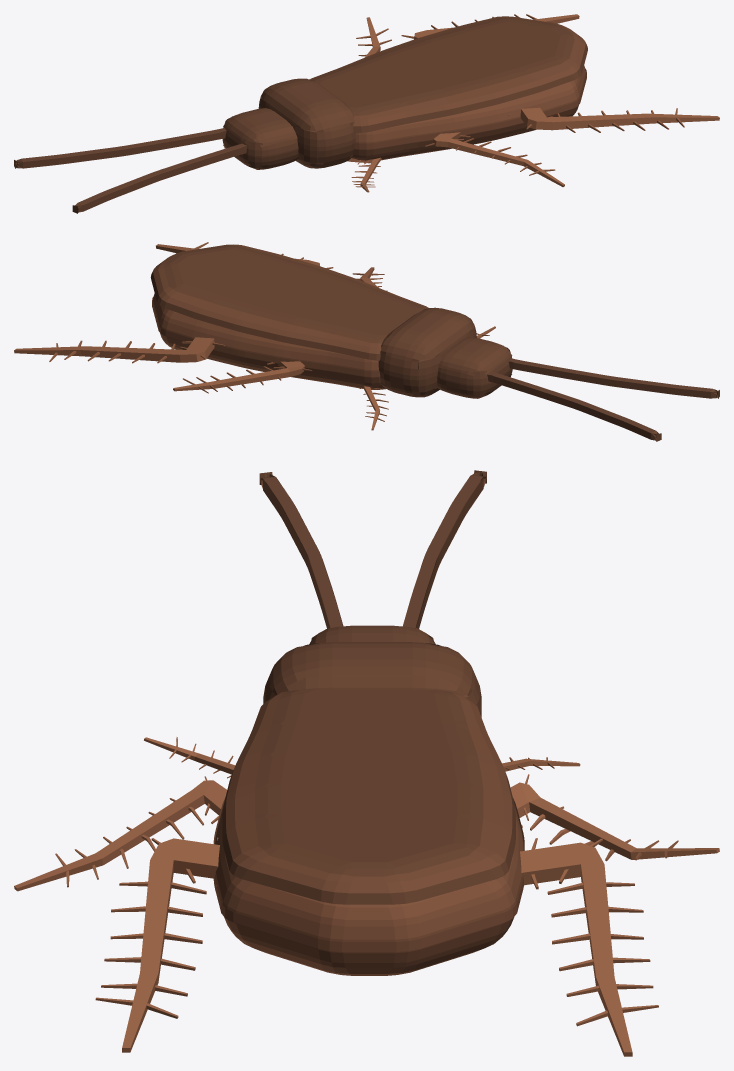
File: cockRoach.fbx
3 views of the same model, one above another, from view 1: azimuth 30°, elevation 25°; view 2: azimuth 150°, elevation 25°; view 3: azimuth 270°, elevation 25° (orthographic). The views are drawn at different scales.
Parts seen in each view (by area): view 1: Cube, Cube.002, Cube.003, Cube.001, Cube.006, Cube.004; view 2: Cube, Cube.001, Cube.004, Cube.005, Cube.002; view 3: Cube, Cube.001, Cube.002, Cube.003, Cube.004, Cube.006.
Part boxes in pixels (x1=…): Cube: x1=14, y1=16, x2=587, y2=213; Cube.002: x1=508, y1=107, x2=719, y2=132; Cube.003: x1=425, y1=132, x2=564, y2=186; Cube.001: x1=401, y1=14, x2=579, y2=39; Cube.006: x1=348, y1=157, x2=381, y2=192; Cube.004: x1=356, y1=17, x2=391, y2=57; Cube: x1=150, y1=244, x2=719, y2=441; Cube.001: x1=14, y1=337, x2=224, y2=363; Cube.004: x1=173, y1=361, x2=312, y2=393; Cube.005: x1=359, y1=386, x2=388, y2=430; Cube.002: x1=156, y1=242, x2=333, y2=269; Cube: x1=213, y1=470, x2=524, y2=975; Cube.001: x1=520, y1=838, x2=658, y2=1056; Cube.002: x1=95, y1=837, x2=219, y2=1052; Cube.003: x1=14, y1=776, x2=227, y2=891; Cube.004: x1=510, y1=774, x2=719, y2=861; Cube.006: x1=144, y1=737, x2=235, y2=778.
Size of the model in its own units: 1077 by 114 by 612.
